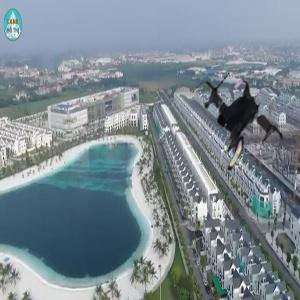drone: (176, 70, 290, 184)
